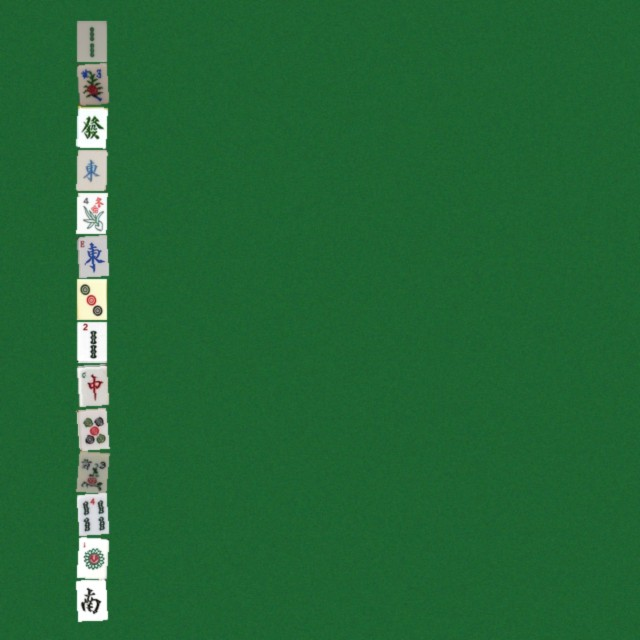tile: (76, 20, 106, 61), (76, 63, 106, 104), (76, 106, 106, 147), (76, 149, 106, 190), (76, 192, 106, 233), (76, 235, 106, 276), (76, 278, 106, 319), (76, 321, 106, 362), (76, 364, 106, 405), (76, 407, 106, 448), (76, 450, 106, 491), (76, 493, 106, 534), (76, 536, 106, 577), (76, 579, 106, 620)
